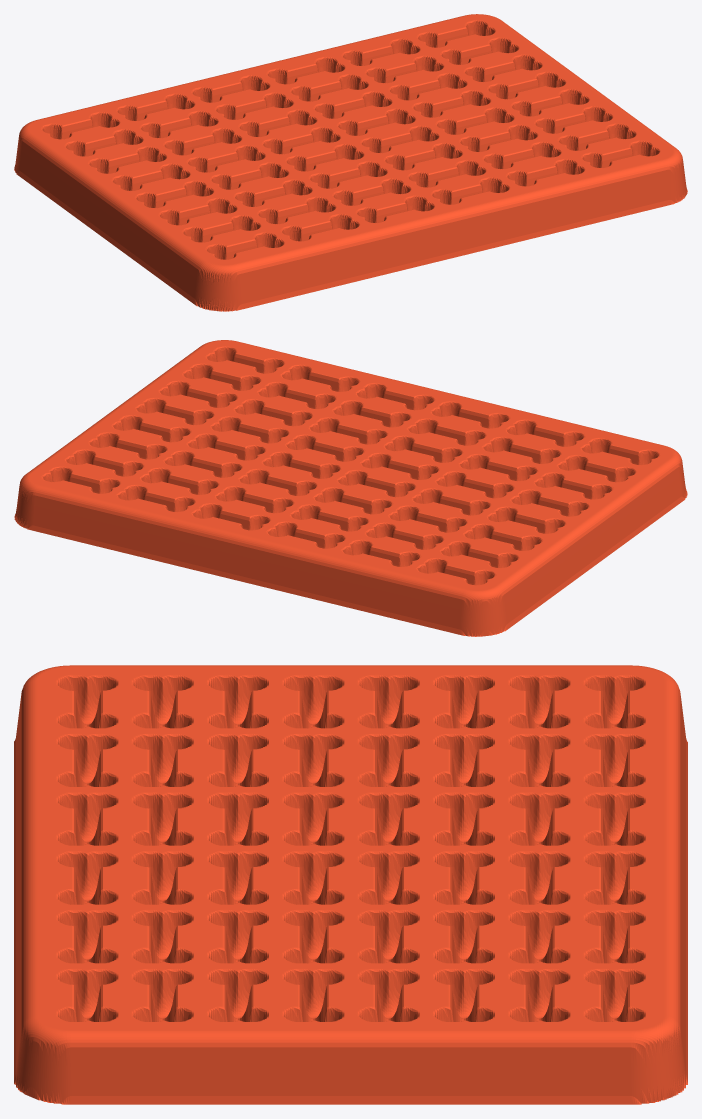
Rendered from mold.glb.
3 renders of one model, top to bottom at view 1: azimuth 30°, elevation 25°; view 2: azimuth 150°, elevation 25°; view 3: azimuth 270°, elevation 25°, orthographic. The views are drawn at different scales.
Visible parts, largest first — view 1: geometry_0; view 2: geometry_0; view 3: geometry_0.
Part boxes in pixels (x1,y1,x2,y2): geometry_0: [14, 14, 687, 311]; geometry_0: [14, 340, 687, 636]; geometry_0: [14, 665, 687, 1104].
Bounding box in the file's own units: 0.1443 × 0.0113 × 0.1074.
